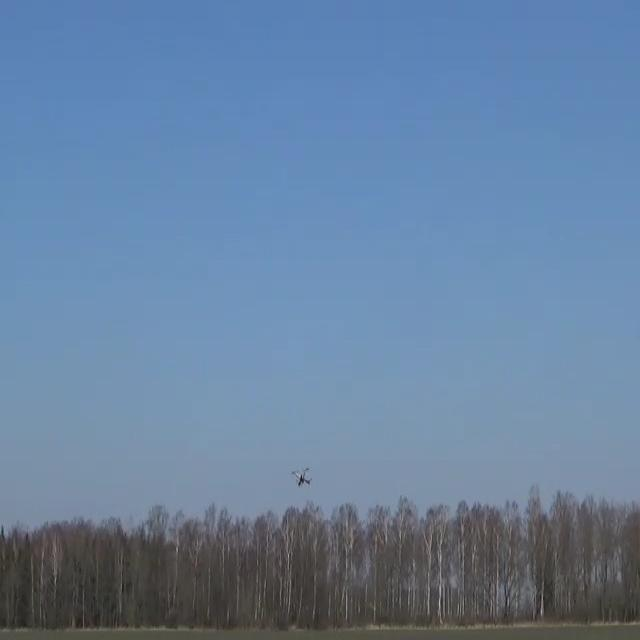drone: (291, 466, 311, 486)
